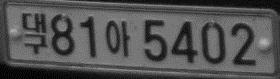0: (201, 20, 226, 64)
1: (78, 15, 101, 56)
2: (230, 21, 256, 66)
4: (171, 21, 198, 62)
5: (143, 18, 168, 62)
8: (50, 13, 75, 56)
대구_V: (21, 12, 48, 55)
아: (105, 19, 131, 57)
